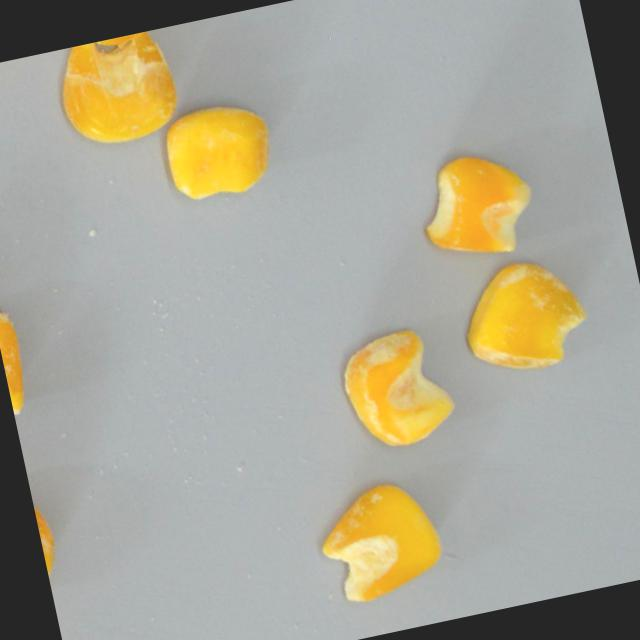pelicula: (446, 245, 599, 385), (307, 469, 453, 612), (331, 317, 465, 460), (409, 137, 546, 270), (47, 26, 187, 155), (154, 94, 281, 207), (26, 474, 71, 607), (0, 291, 35, 419)
